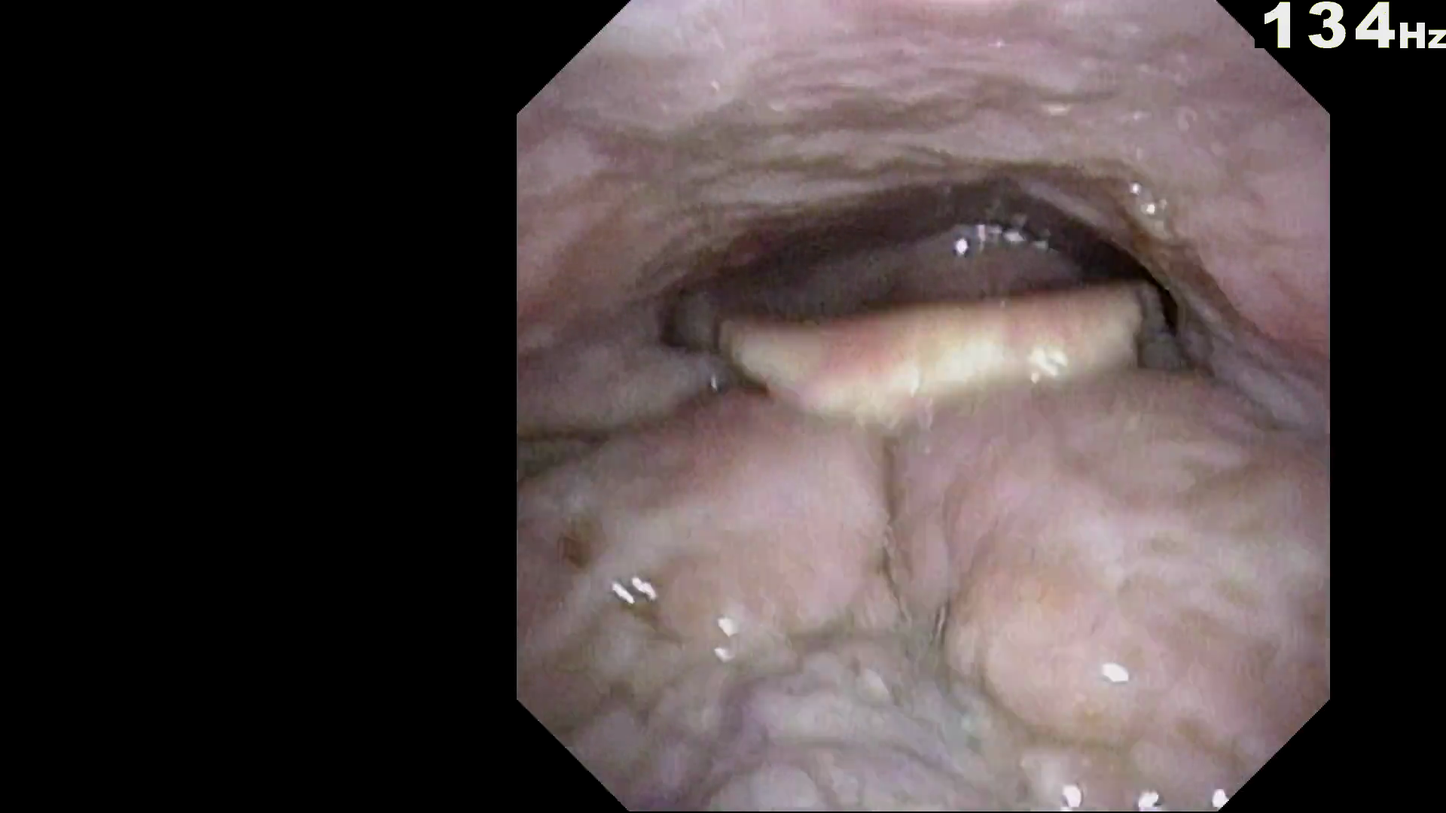epiglottis: (717, 350, 1232, 499)
